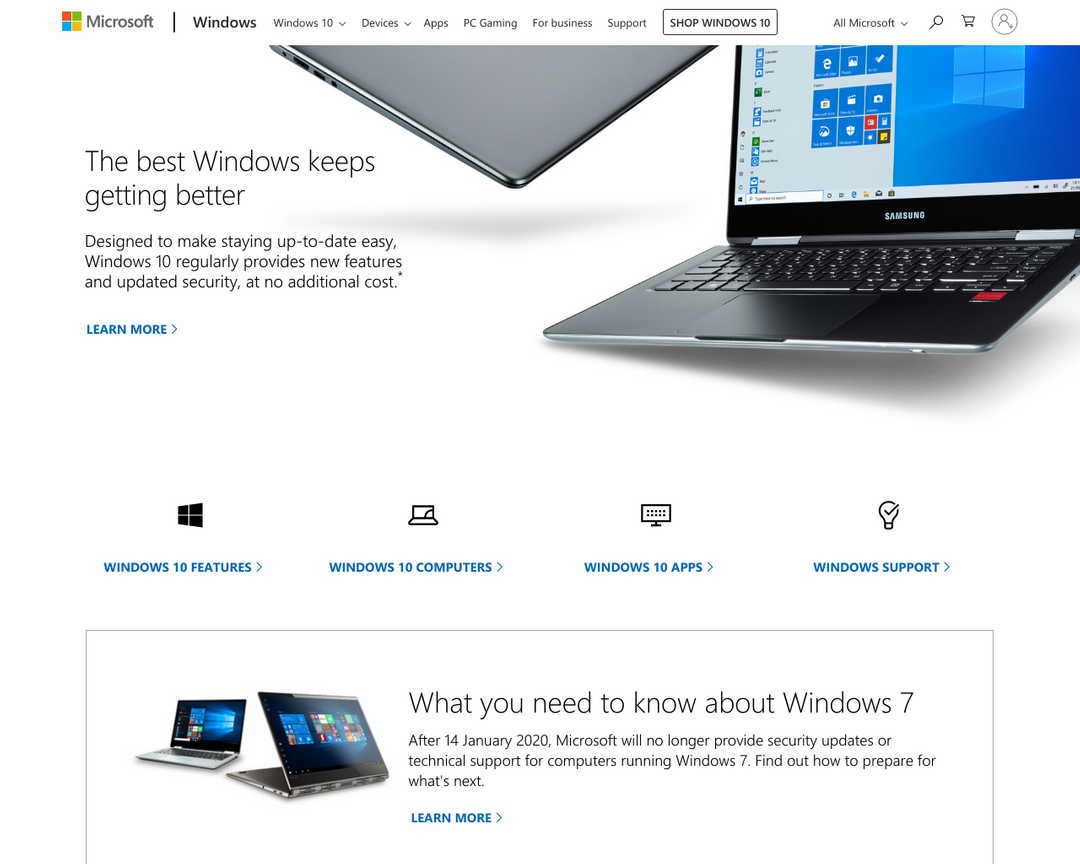Microsoft: (58, 6, 157, 39)
